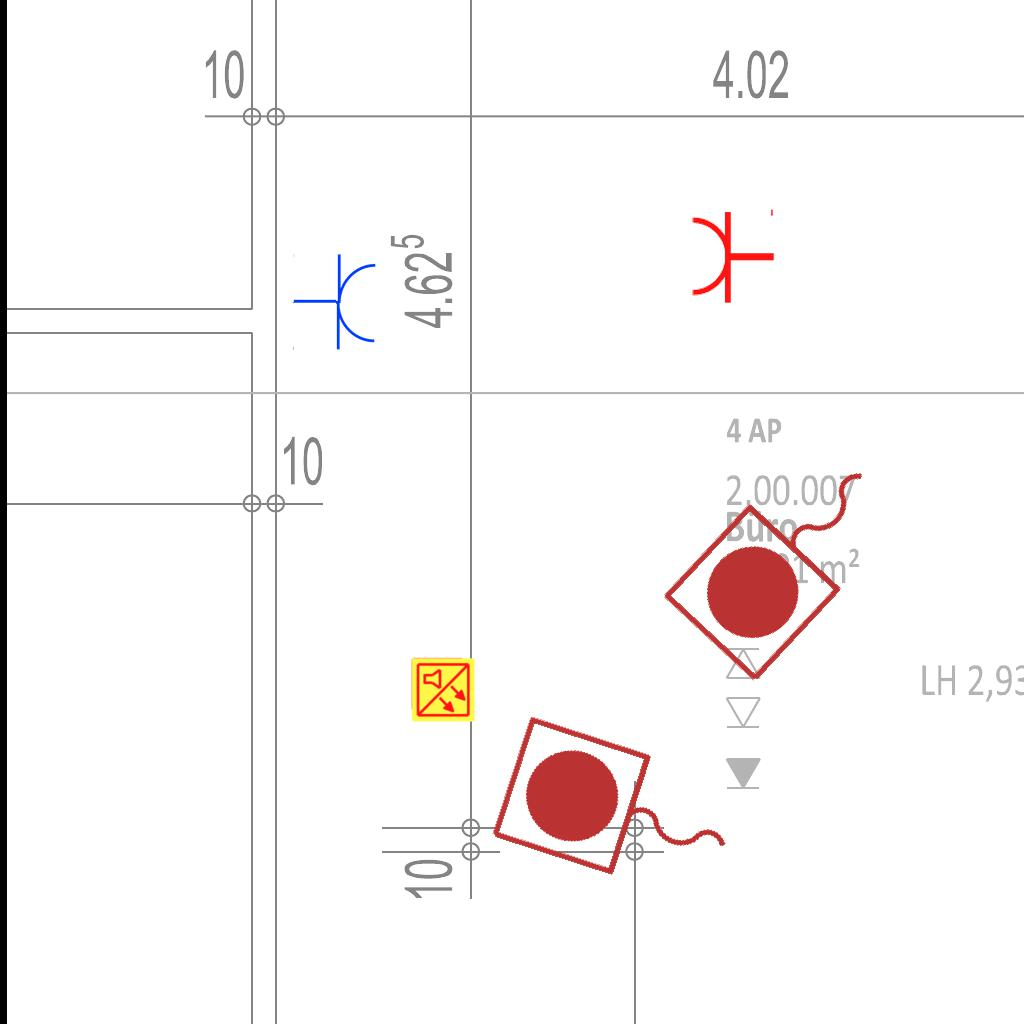OKW_Multisensormelder_(Kombination_optischer_Rauch-Kahlenmonoxid_Waerme-Melder): (410, 657, 476, 723)
Schukosteckdose_einfach: (291, 251, 381, 354), (689, 205, 776, 305)
Zugtaster: (652, 418, 924, 696), (480, 706, 758, 920)
